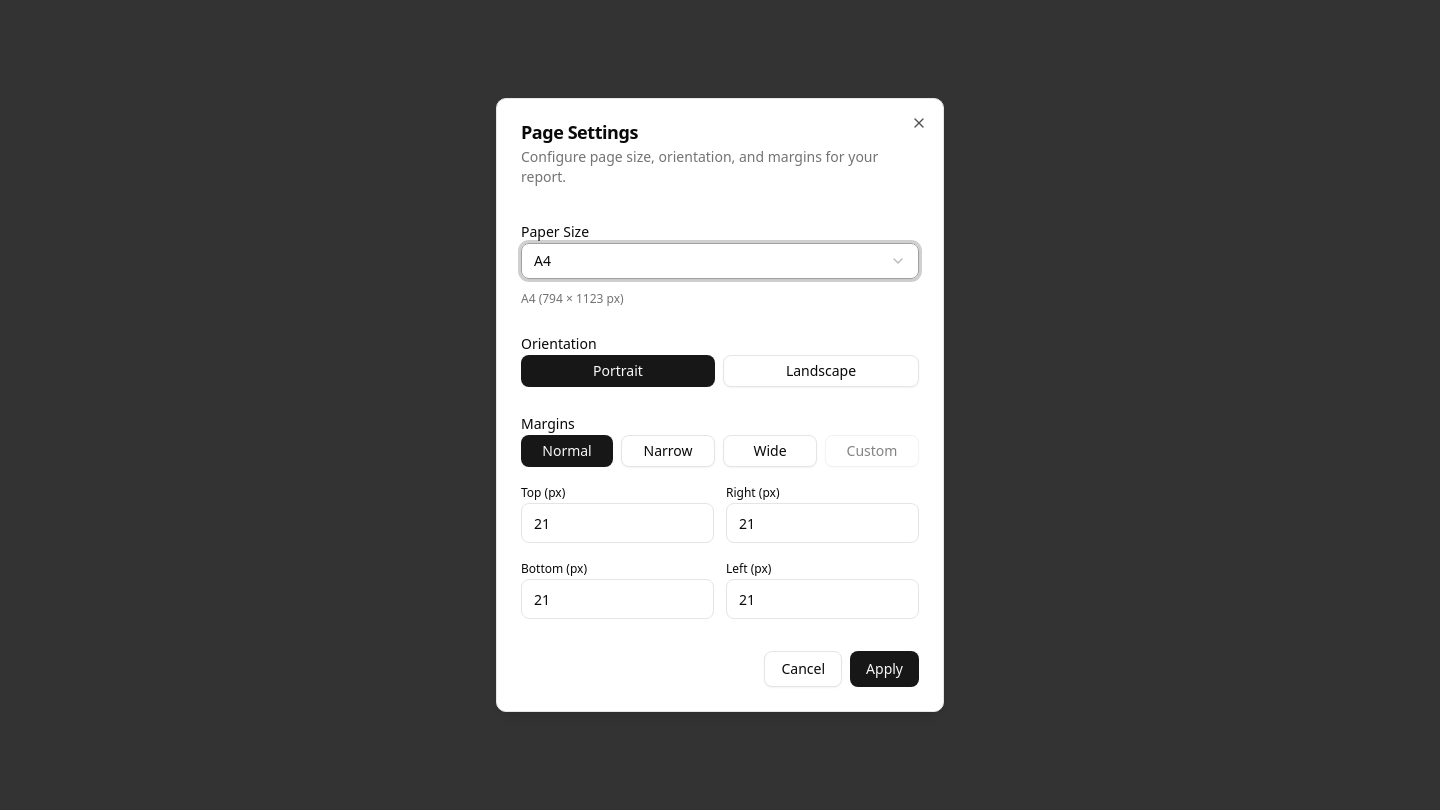
Test: PageConfigDialog › applies margin preset when preset button is clicked
Click the button with test id "margin-preset-narrow".
click(668, 451)  # box [621,435,715,467]
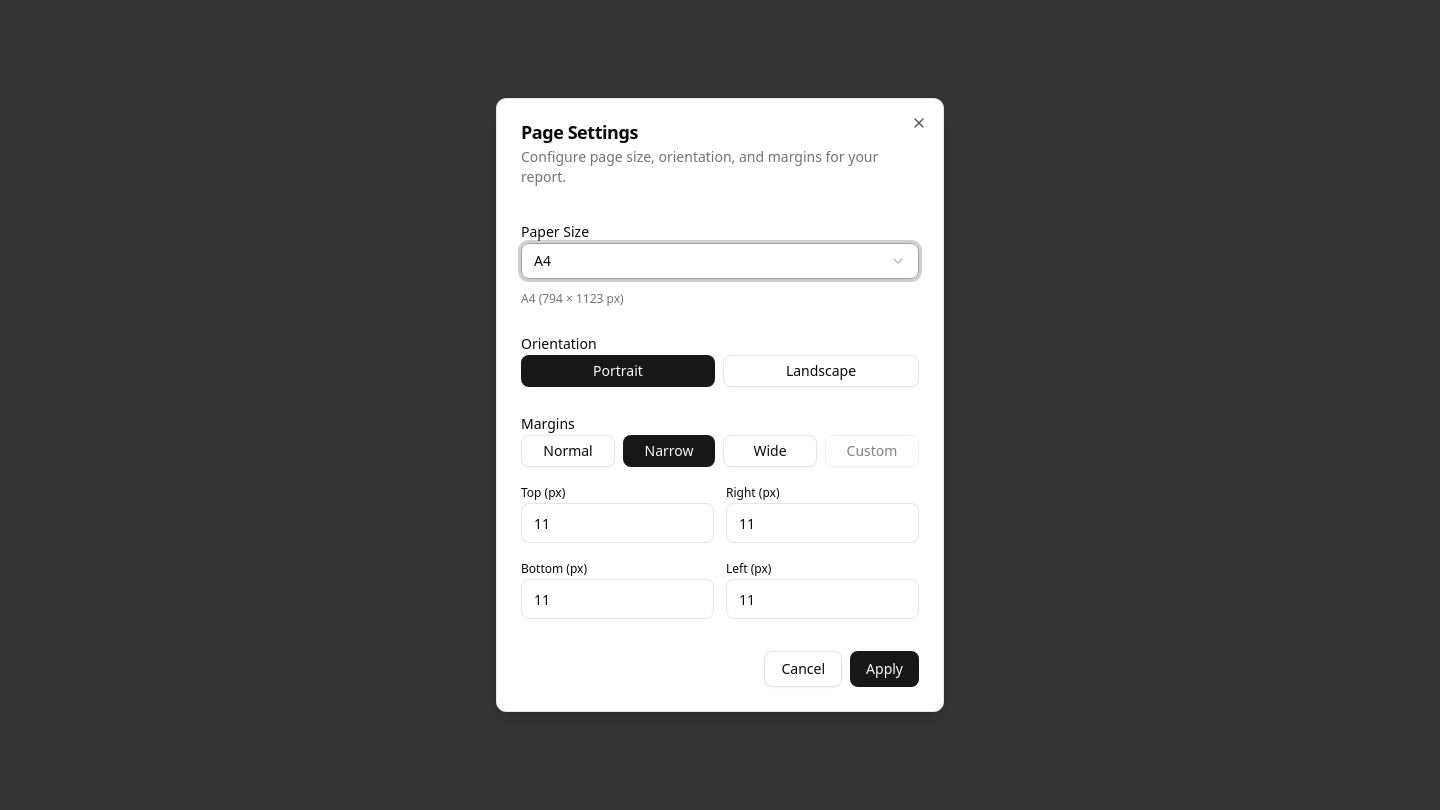
Check: the number field with test id "margin-top" holds "11", box [521,503,714,543]
